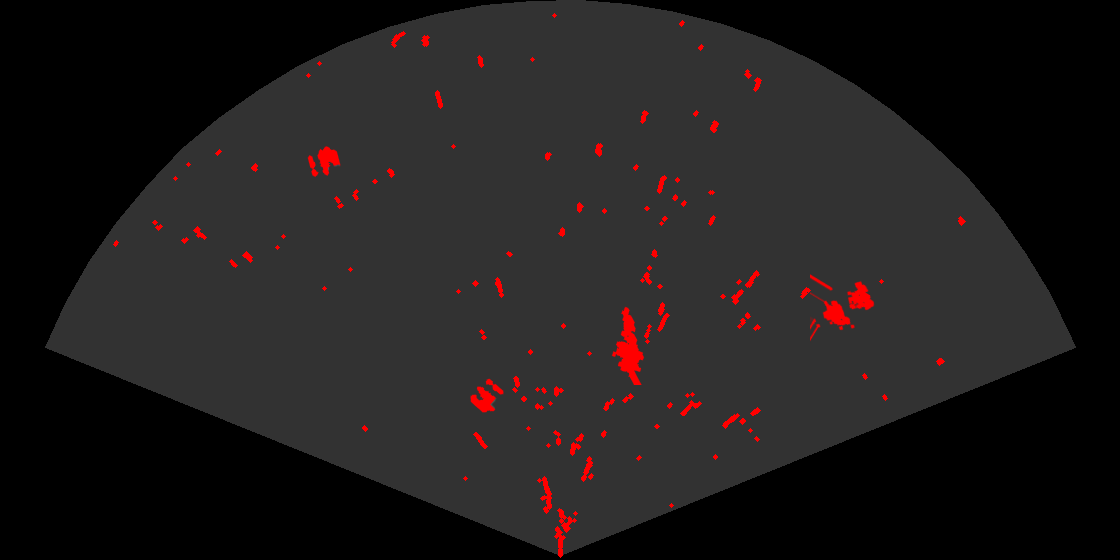ball: (469, 377, 505, 414), (306, 145, 342, 179)
cage: (810, 273, 876, 343)
frogman: (610, 305, 646, 385)
